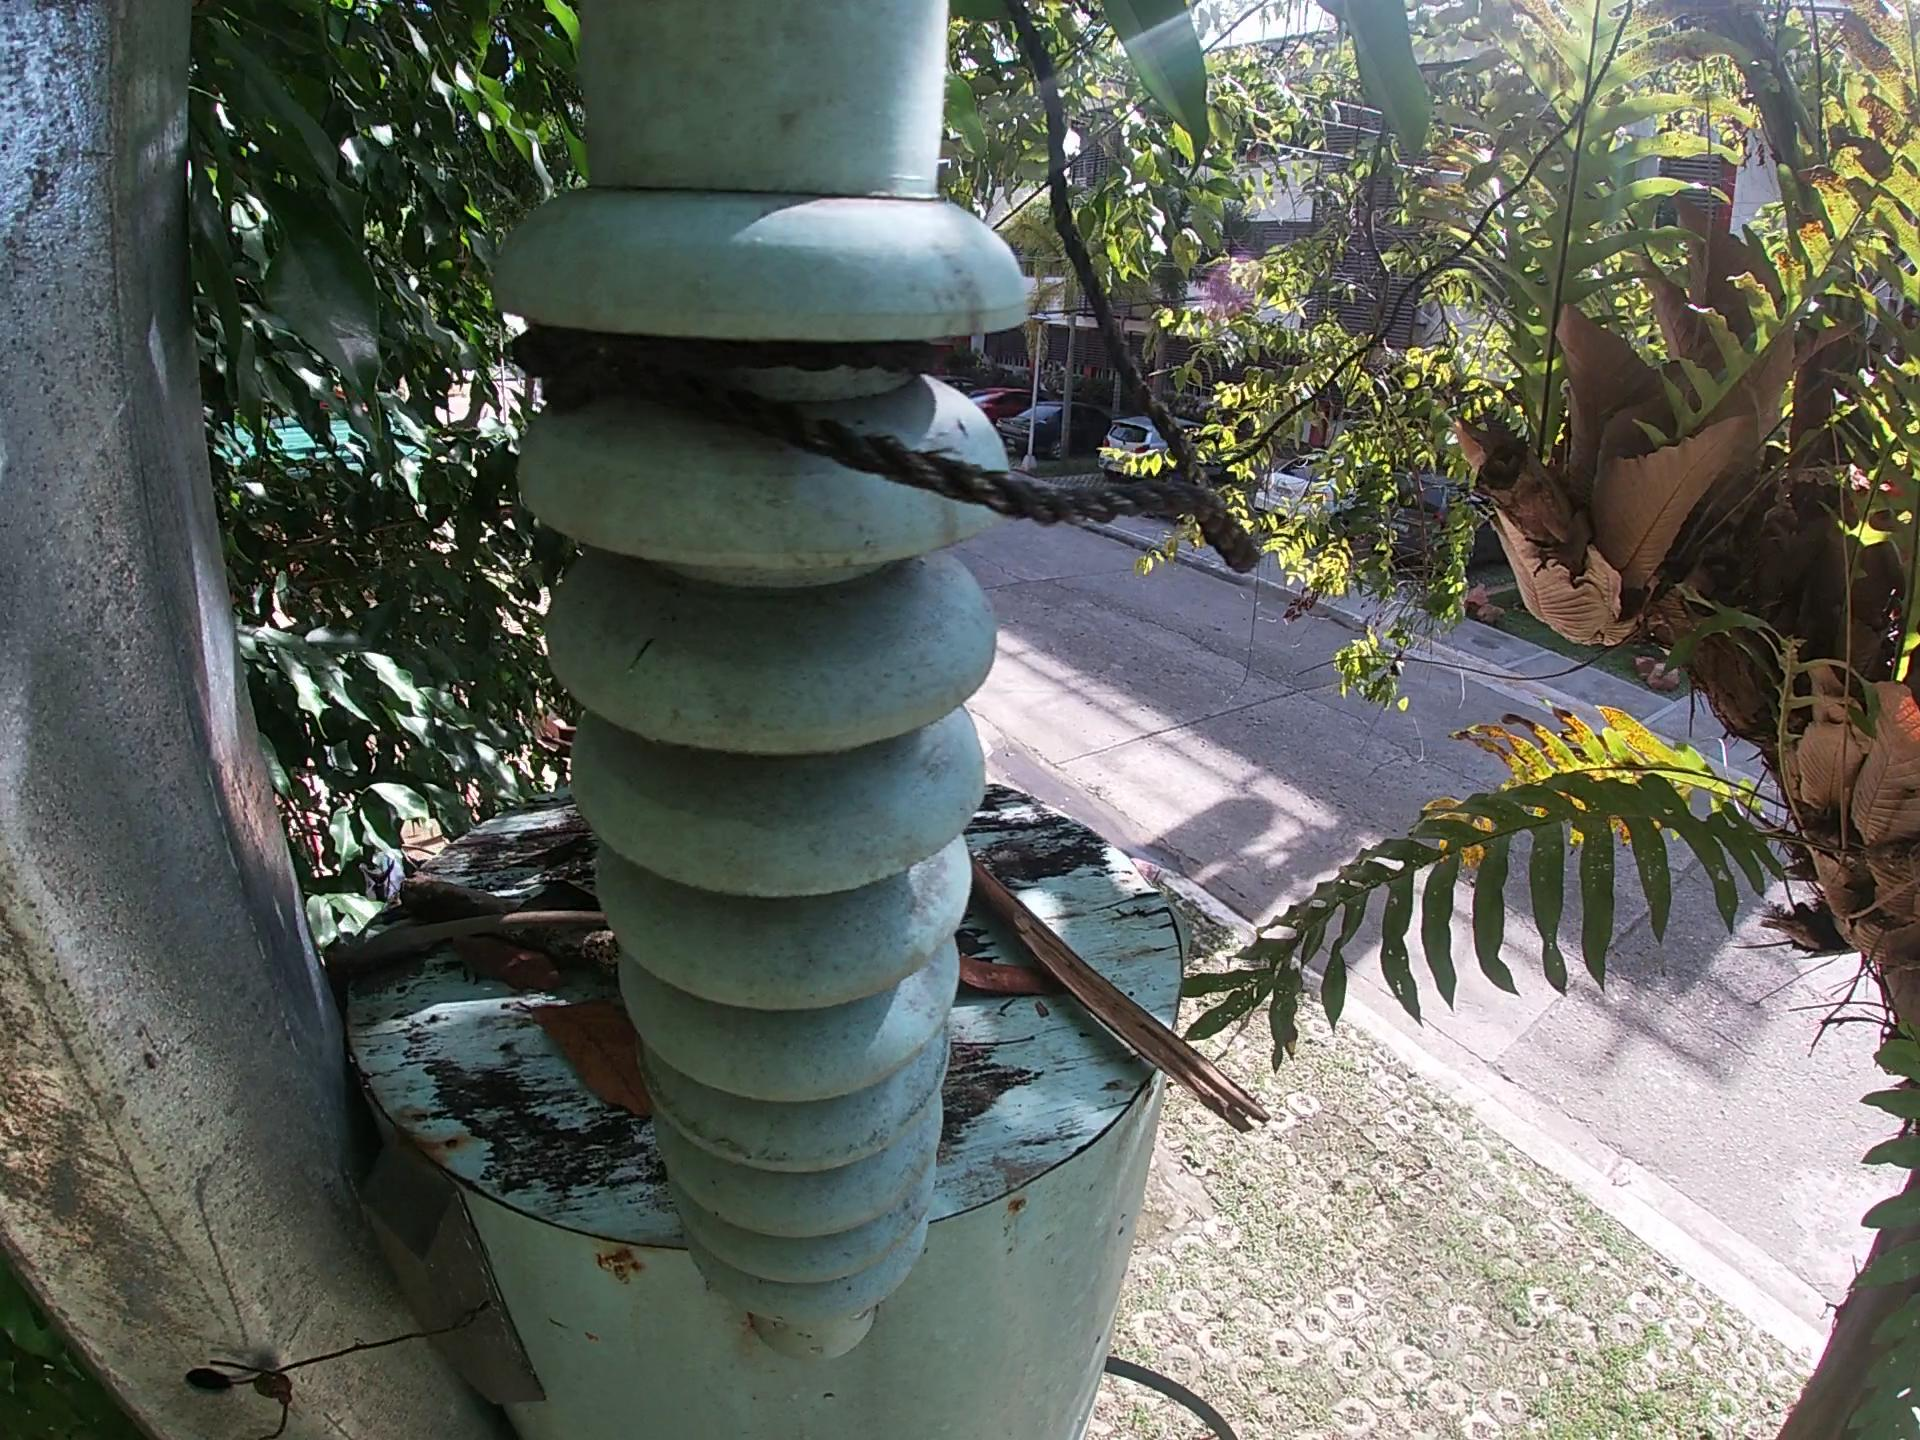leaf: (516, 992, 656, 1122), (449, 930, 561, 998), (506, 877, 602, 918)
mahogany fruit: (948, 945, 1072, 1003)
tree branch: (966, 858, 1268, 1137), (395, 874, 624, 977), (333, 905, 612, 983)
